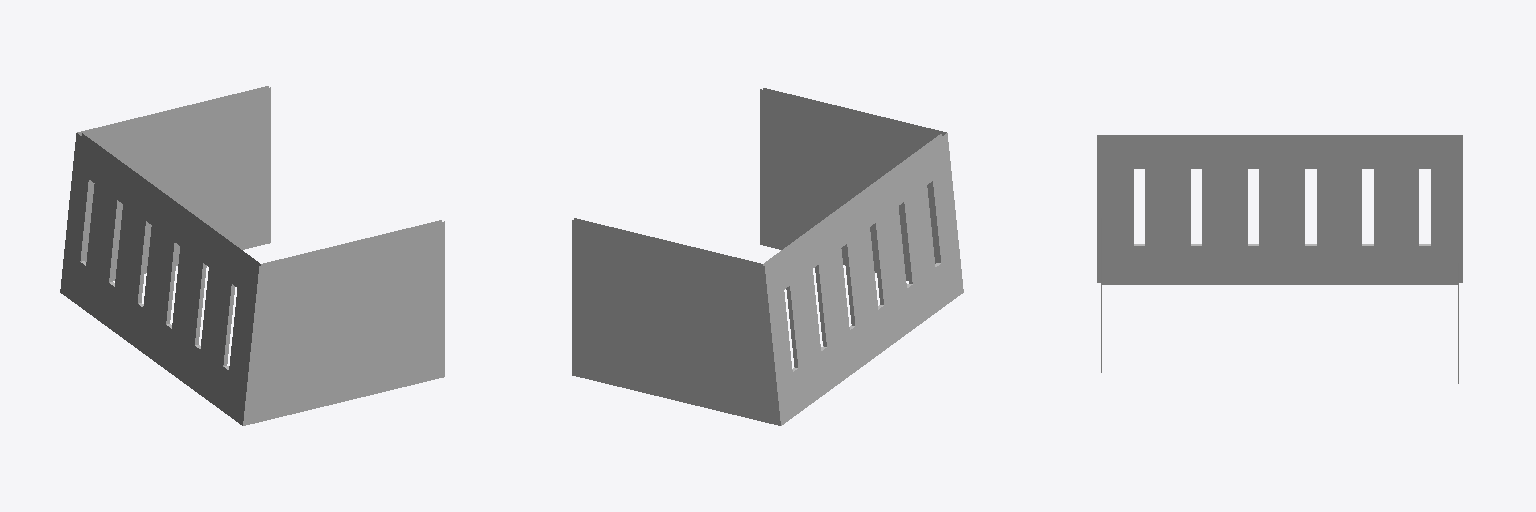
Rendered from TempleRoom4.obj.
The picture shows the model from 3 angles: view 1: azimuth 30°, elevation 25°; view 2: azimuth 150°, elevation 25°; view 3: azimuth 270°, elevation 25°; orthographic projection.
Visible parts, largest first — view 1: TempleRoom4; view 2: TempleRoom4; view 3: TempleRoom4.
Boxes of the visible parts, x1,y1,x2,y2 form: TempleRoom4: [60, 86, 444, 425]; TempleRoom4: [572, 88, 963, 425]; TempleRoom4: [1097, 135, 1462, 383].
Size of the model in its own units: 1547 by 1102 by 2348.